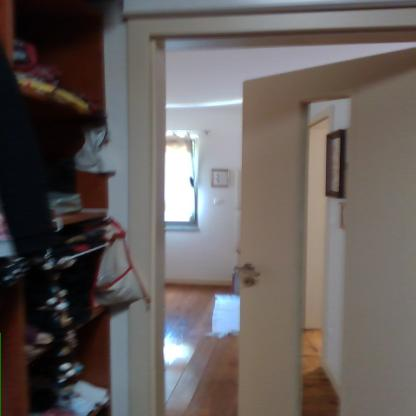semi: (132, 11, 402, 416)
